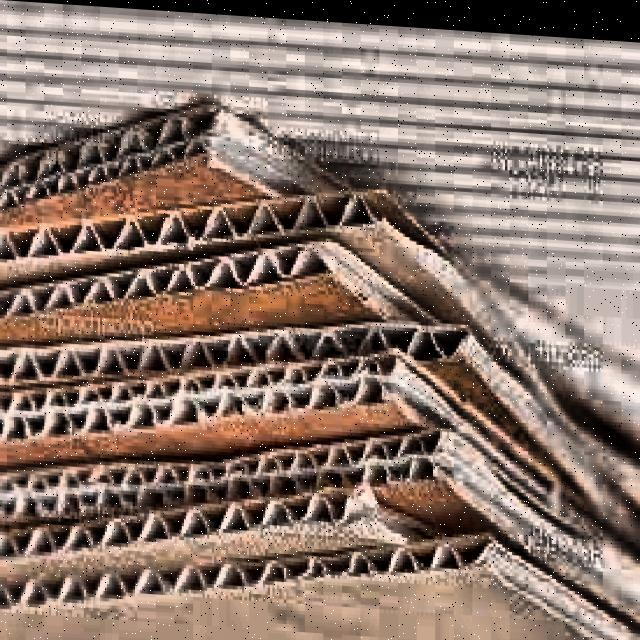cardboard: (0, 88, 640, 640)
